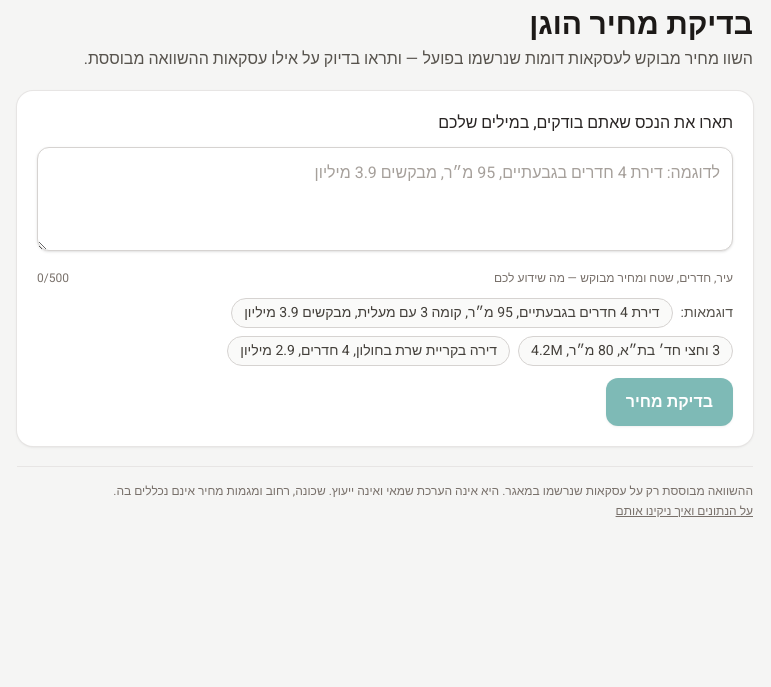
Test: App › a newer search wins: a late explanation for an older search is ignored
The image size is (771, 687).
Type "חיפוש ראשון" into the text box labelled "תארו את הנכס שאתם בודקים, במילים שלכם" at point(385, 199), box top-left (37, 147), bottom-right (733, 251)
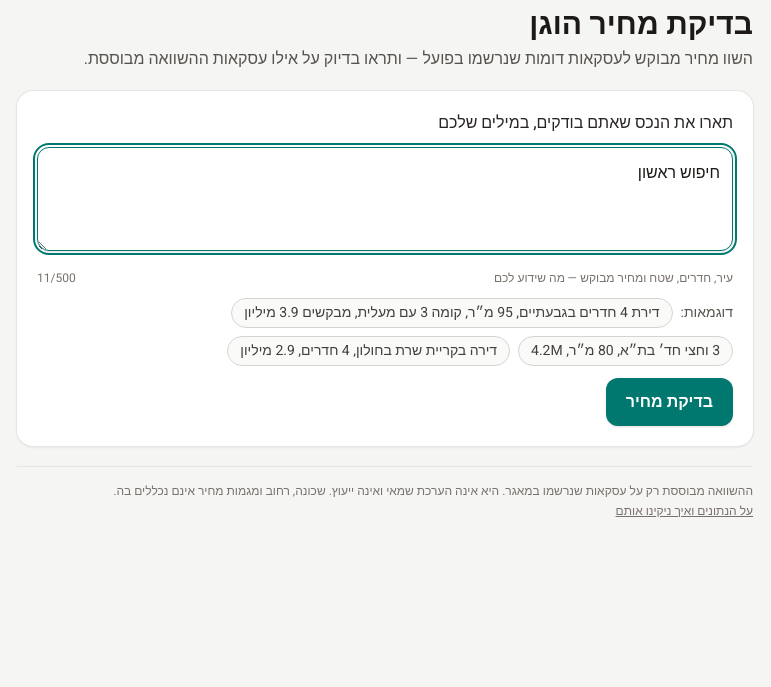
Click the button "בדיקת מחיר" at point(669, 402), box top-left (606, 378), bottom-right (733, 426)
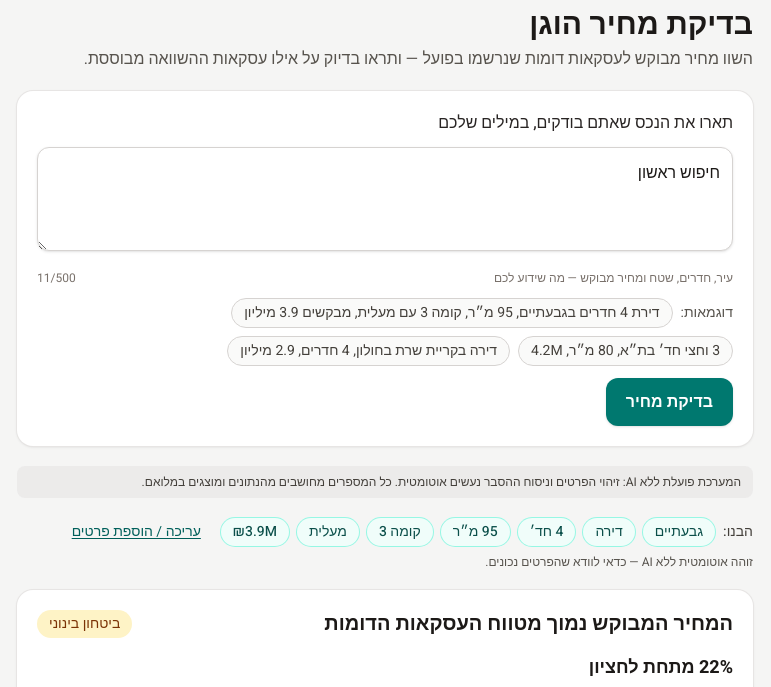
Replace the text in the text box labelled "תארו את הנכס שאתם בודקים, במילים שלכם" with "חיפוש שני" at point(385, 199), box top-left (37, 147), bottom-right (733, 251)
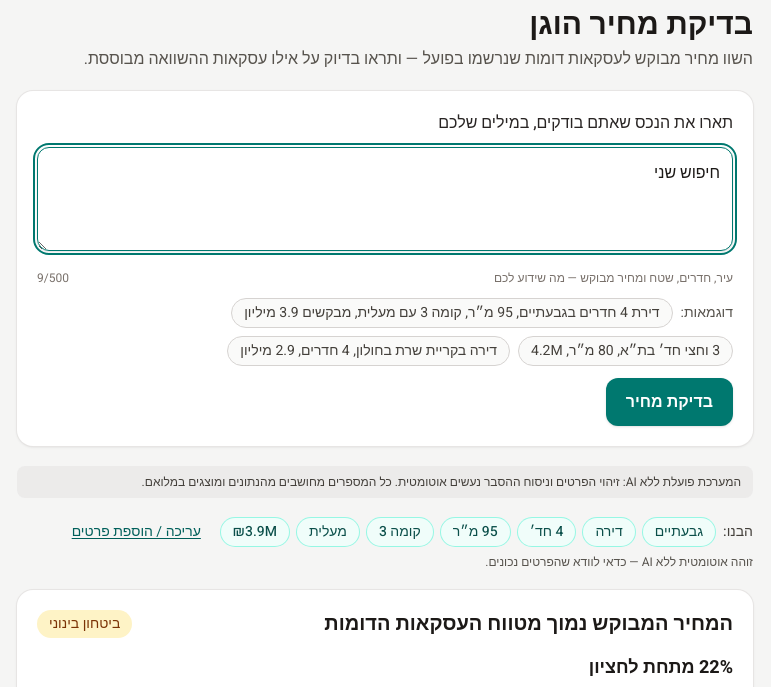
Click the button "בדיקת מחיר" at point(669, 402), box top-left (606, 378), bottom-right (733, 426)
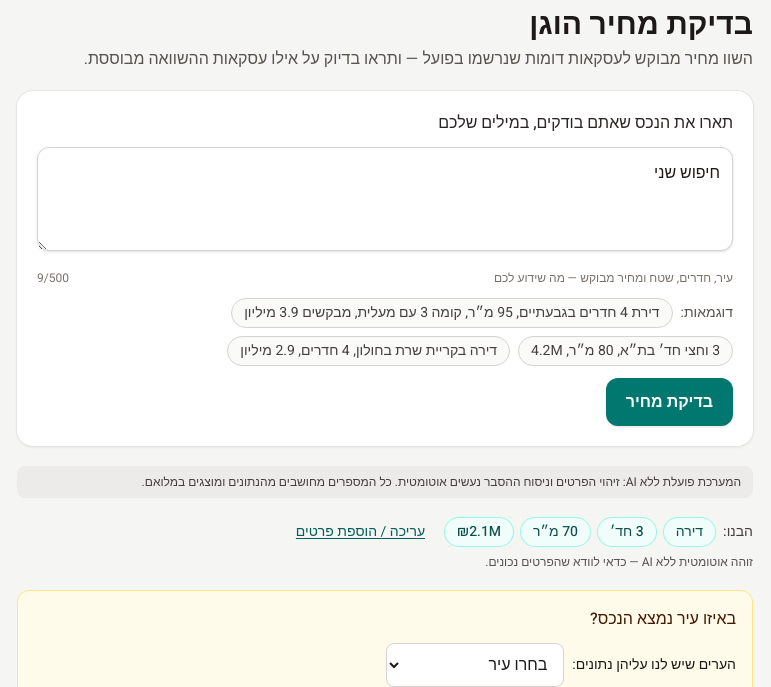
Expected: the text "באיזו עיר נמצא הנכס?" is shown, top-left (590, 607), bottom-right (736, 631)
